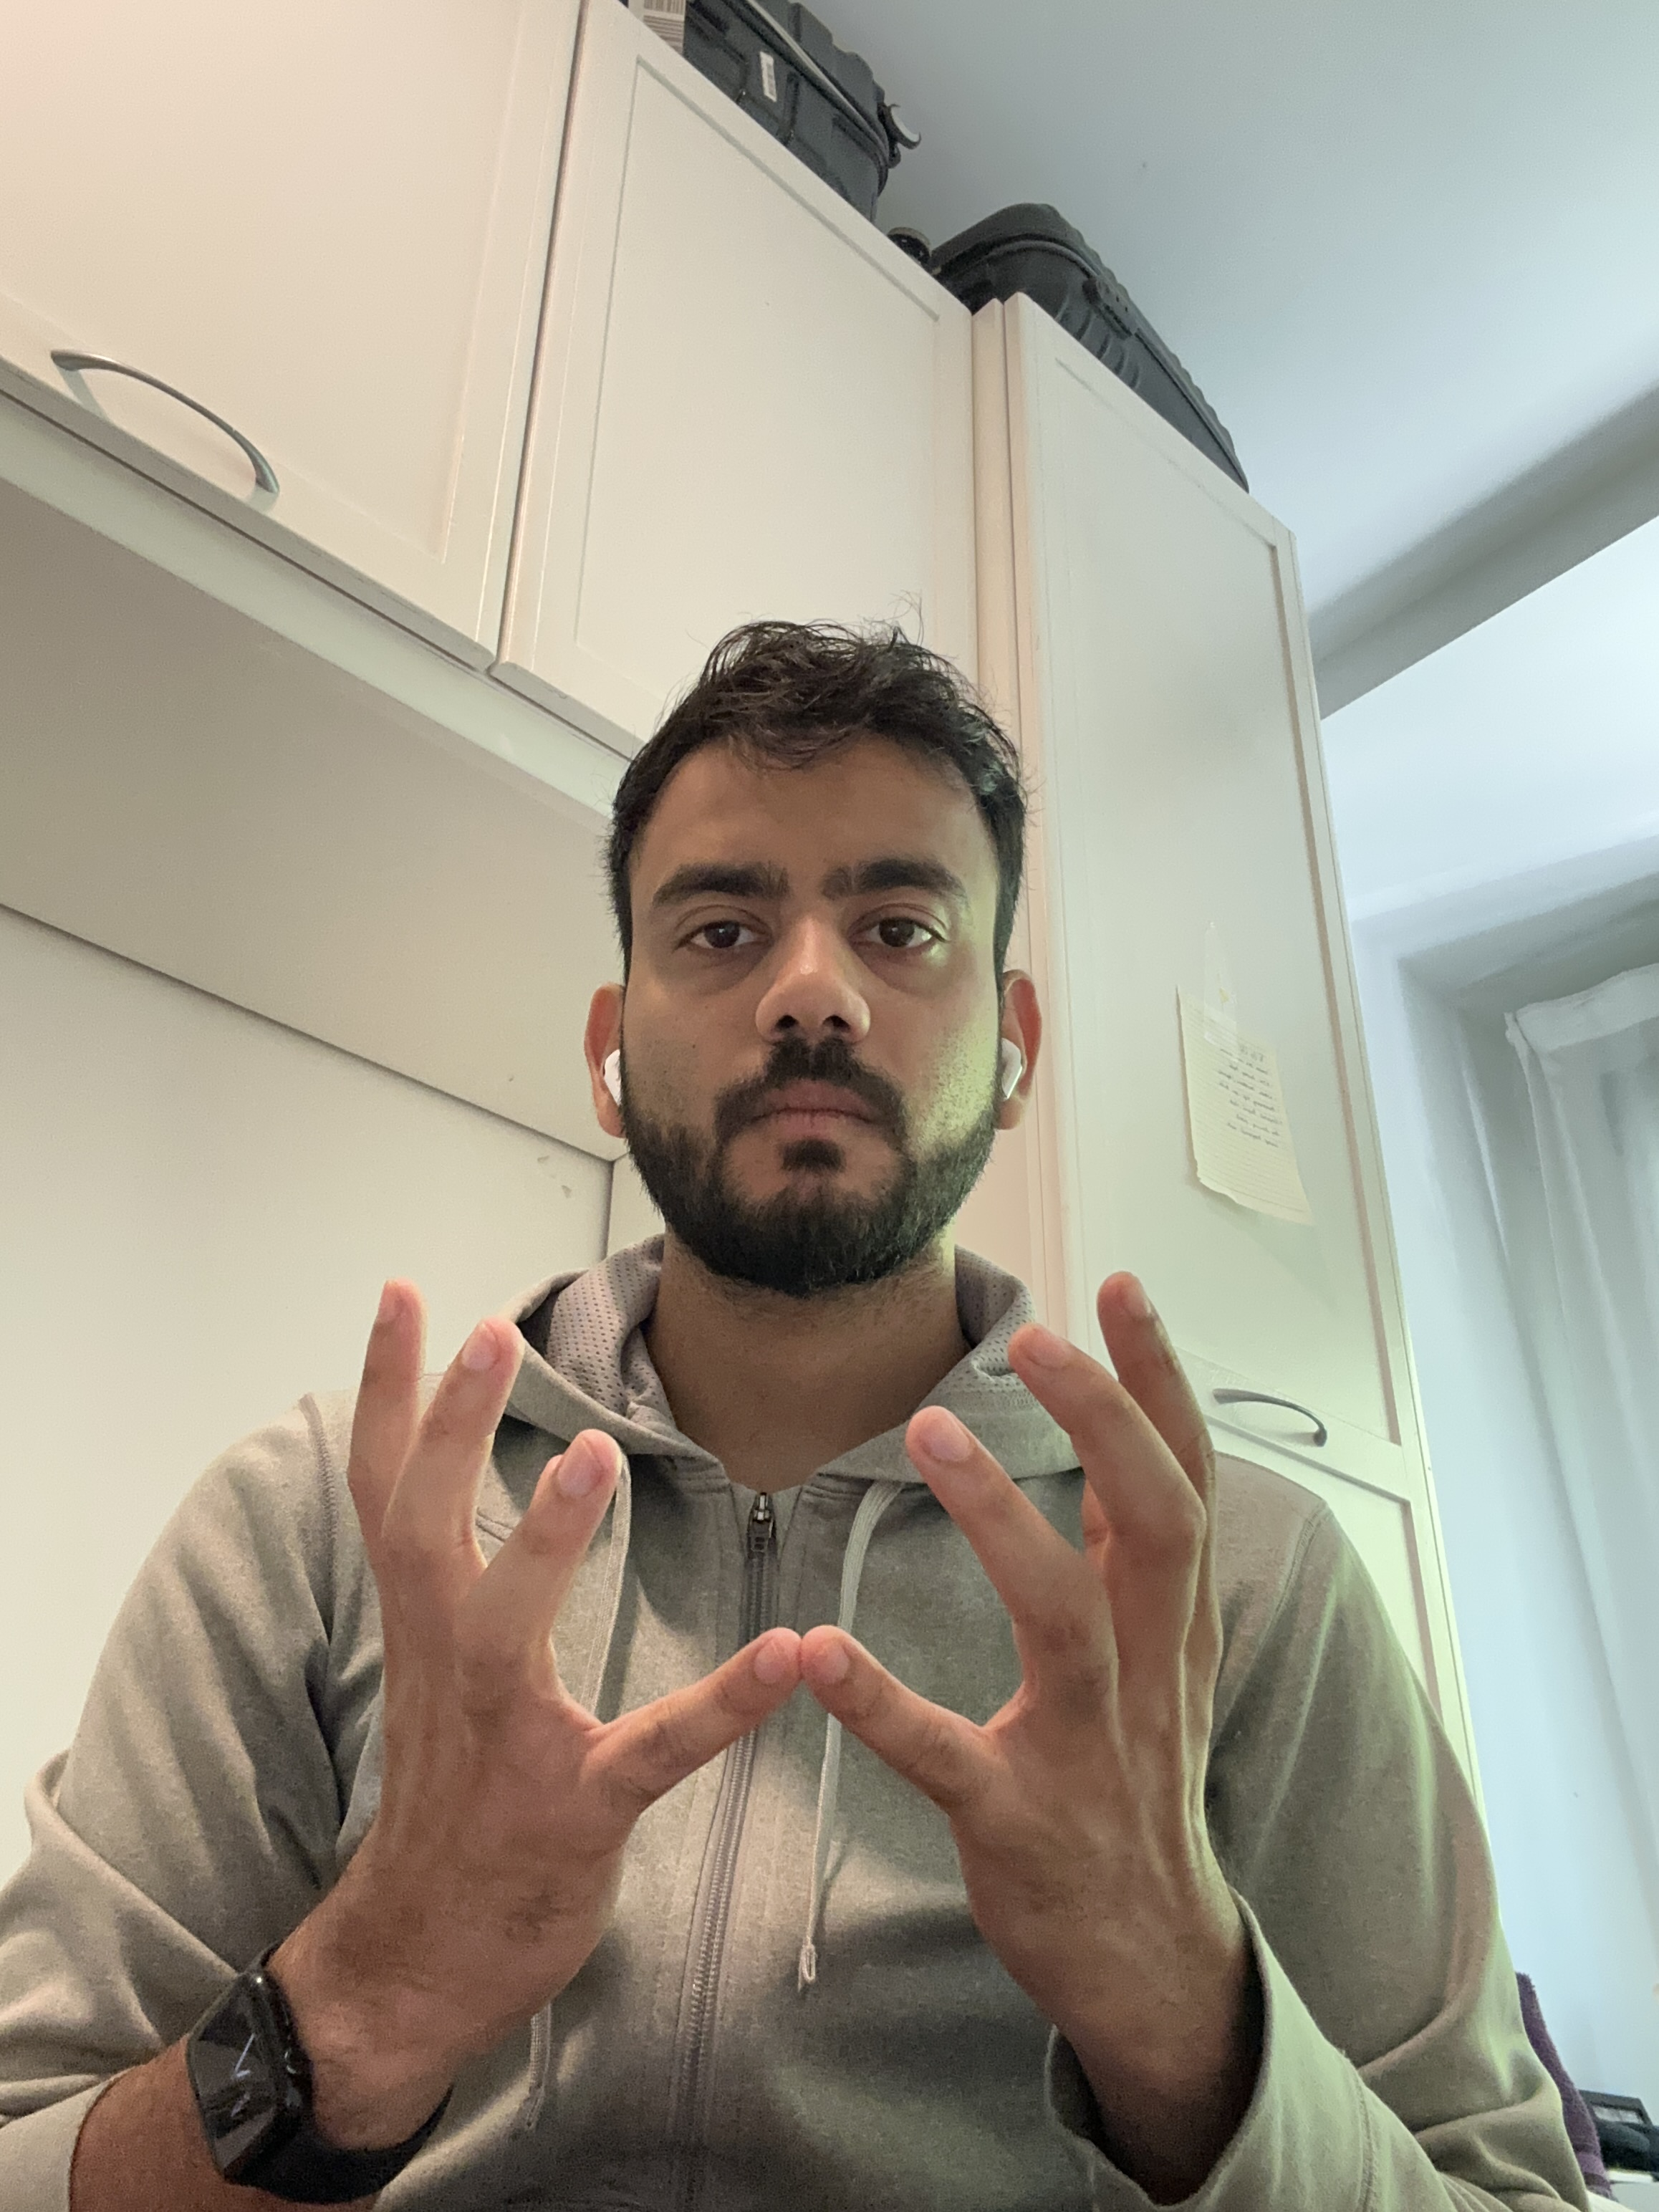group: (3, 613, 1607, 2205)
